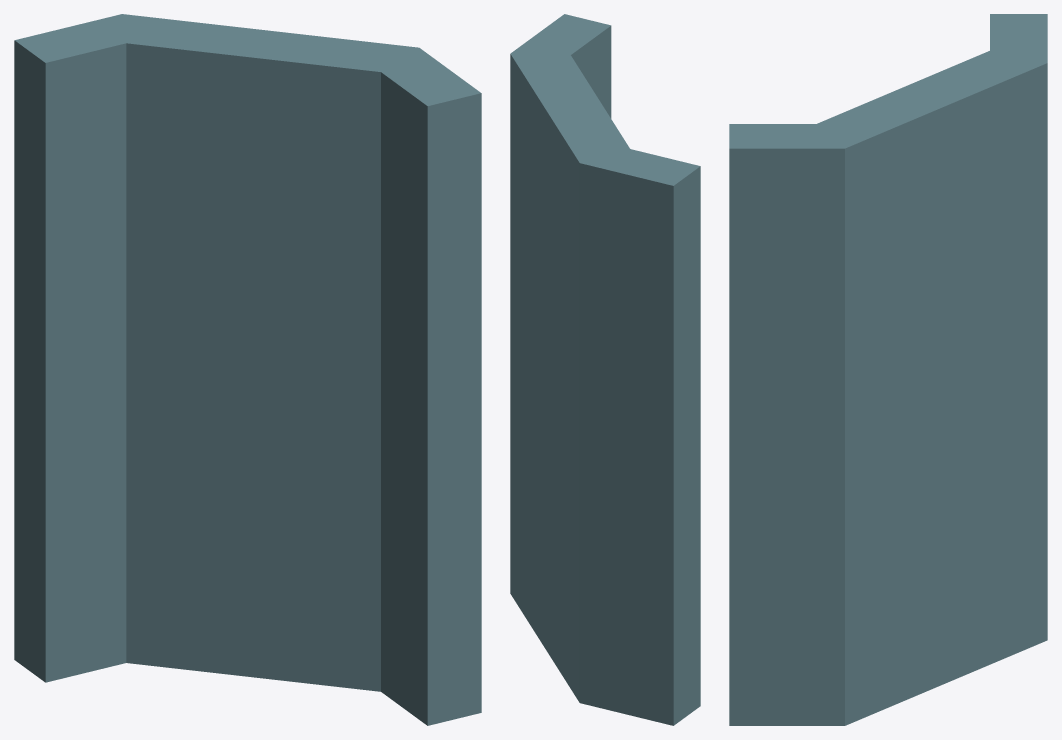
The model's file is W1_WallCorner_Angular1A.fbx.
The picture shows the model from 3 angles, left to right: view 1: azimuth 30°, elevation 25°; view 2: azimuth 150°, elevation 25°; view 3: azimuth 270°, elevation 25°; orthographic projection. The views are drawn at different scales.
Visible parts, largest first — view 1: W1_WallCorner_Angular1A.001; view 2: W1_WallCorner_Angular1A.001; view 3: W1_WallCorner_Angular1A.001.
Boxes of the visible parts, x1,y1,x2,y2 form: W1_WallCorner_Angular1A.001: (14,14,481,725); W1_WallCorner_Angular1A.001: (510,14,700,725); W1_WallCorner_Angular1A.001: (729,14,1047,725).
Size of the model in its own units: 1.1 by 2.2 by 1.1.
